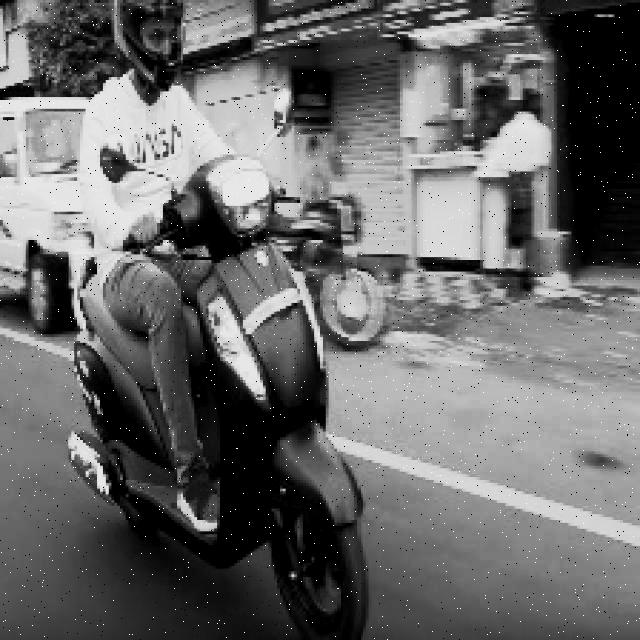Bike: (51, 183, 385, 633)
